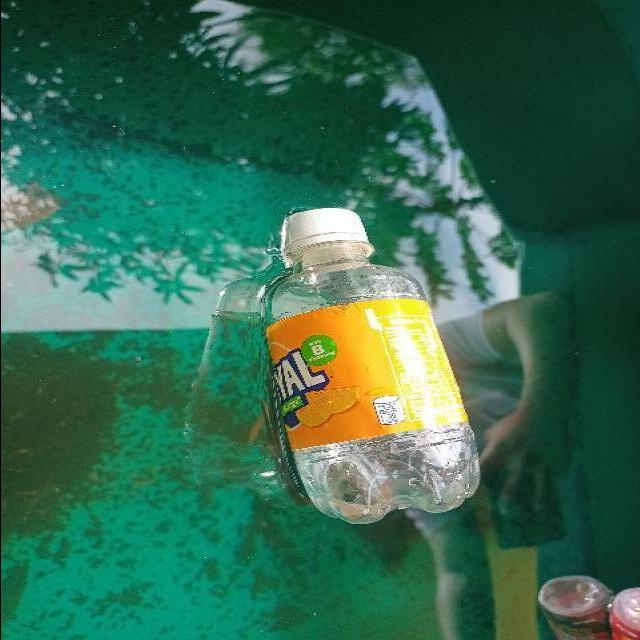Bottle: (254, 200, 488, 534)
